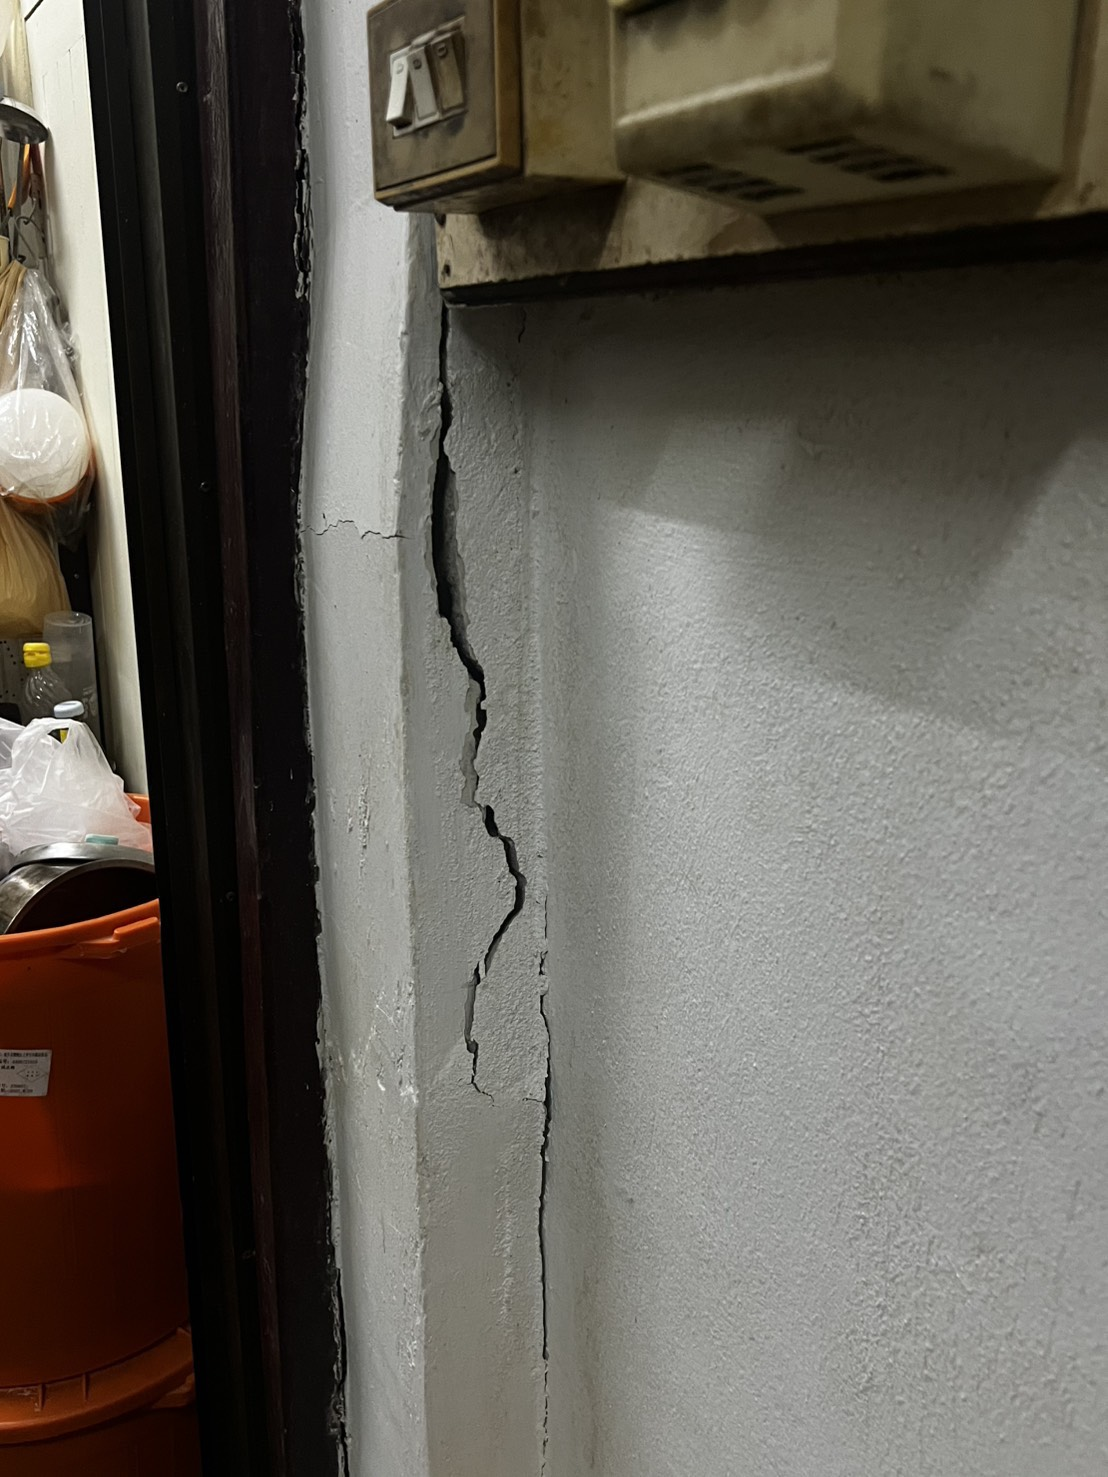High: (308, 296, 608, 1477)
